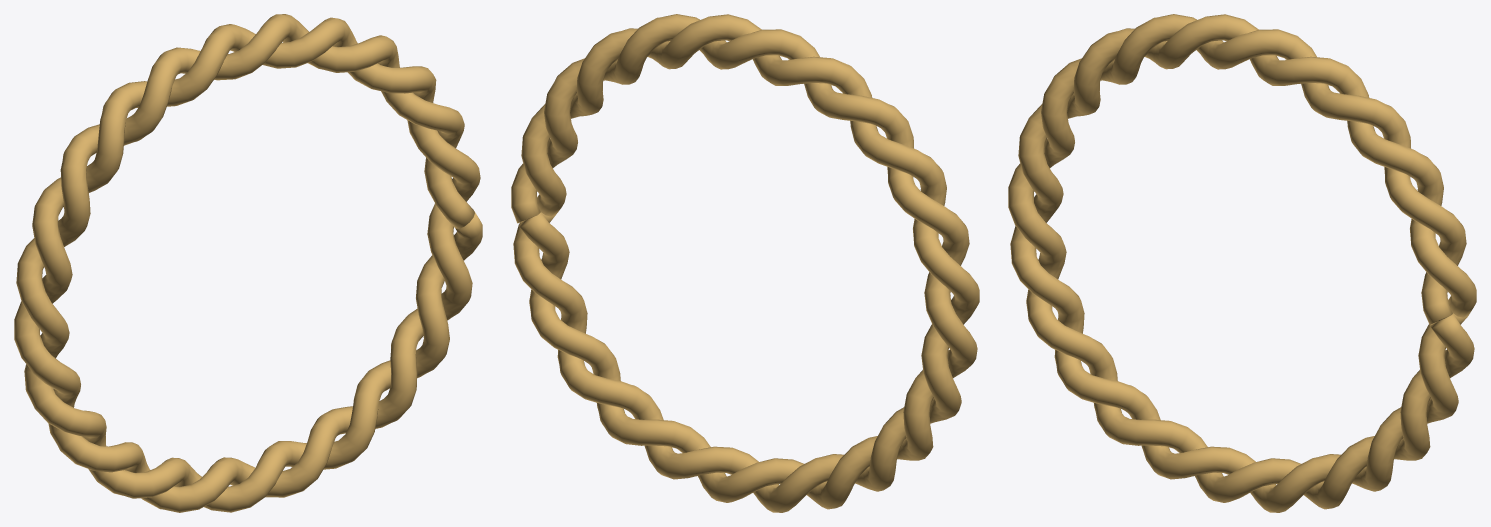
Rendered from bands-rope.glb.
3 renders of one model, left to right at view 1: azimuth 30°, elevation 25°; view 2: azimuth 150°, elevation 25°; view 3: azimuth 330°, elevation 25°, orthographic.
Visible parts, largest first — view 1: Band strand.001, Band strand; view 2: Band strand, Band strand.001; view 3: Band strand.001, Band strand.
Part boxes in pixels (bbox=[...]): Band strand.001: bbox=[14, 17, 480, 512]; Band strand: bbox=[16, 14, 482, 512]; Band strand: bbox=[513, 14, 979, 512]; Band strand.001: bbox=[511, 14, 977, 509]; Band strand.001: bbox=[1010, 14, 1476, 512]; Band strand: bbox=[1008, 14, 1474, 509].
Bounding box in the file's own units: 20.21 × 20.21 × 2.3.
